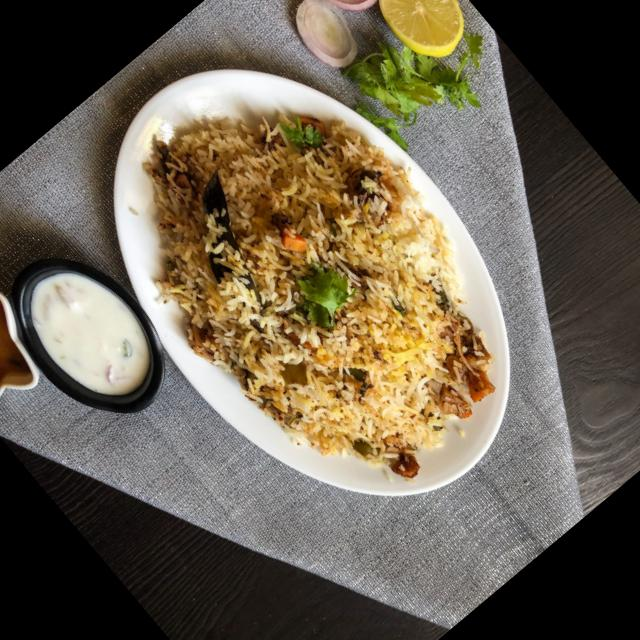Biryani: (56, 7, 570, 540)
